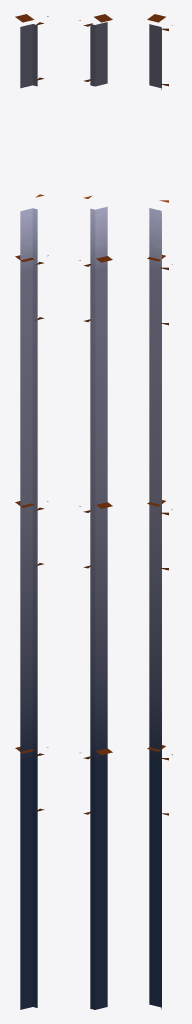
The picture shows the model from 3 angles, left to right: view 1: azimuth 30°, elevation 25°; view 2: azimuth 210°, elevation 25°; view 3: azimuth 330°, elevation 25°; orthographic projection.
Bounding box in the file's own units: 1.12 × 40.25 × 0.582.
2 materials, 2 textured.
